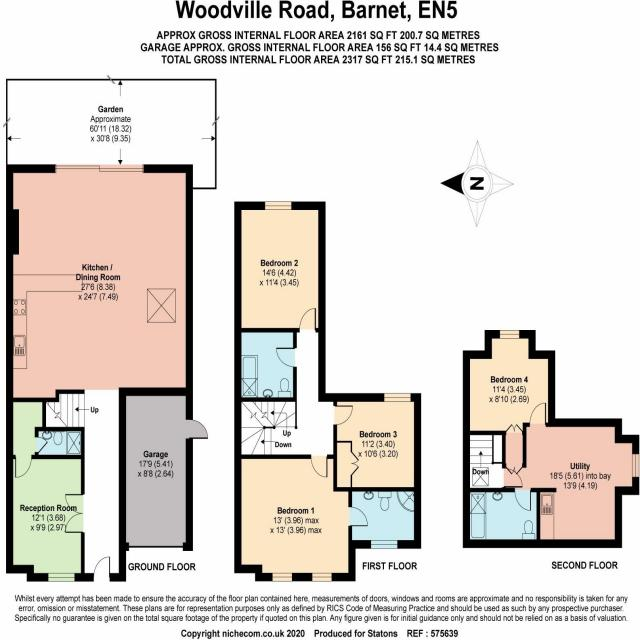DOOR: (64, 493, 85, 534), (185, 418, 209, 440), (527, 401, 548, 426), (12, 455, 33, 479), (92, 556, 110, 582), (276, 347, 297, 369), (298, 308, 317, 332), (333, 404, 353, 426), (310, 454, 328, 478), (349, 505, 368, 527), (513, 488, 531, 511)
ROOM: (6, 164, 193, 581), (234, 454, 369, 582), (234, 201, 326, 332), (6, 454, 85, 582), (463, 330, 556, 435), (334, 393, 422, 490)
SLIDING DOOR: (54, 163, 148, 173)
WINDOW: (383, 392, 411, 403), (369, 539, 398, 549), (47, 573, 76, 582), (264, 201, 292, 210), (631, 451, 640, 479), (270, 572, 293, 582), (498, 329, 521, 339), (311, 572, 332, 582)
